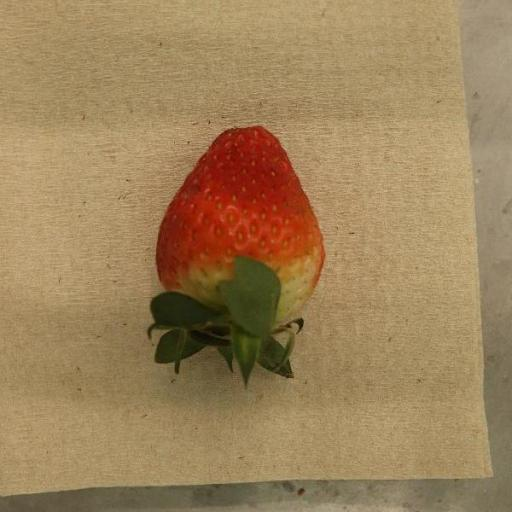Strawberry: (147, 126, 326, 391)
